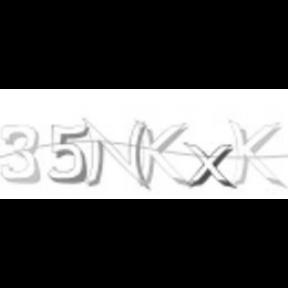3: (1, 123, 42, 185)
5: (46, 122, 90, 186)
K: (228, 118, 286, 190), (135, 117, 189, 187)
N: (83, 116, 150, 192)
x: (181, 140, 233, 190)
